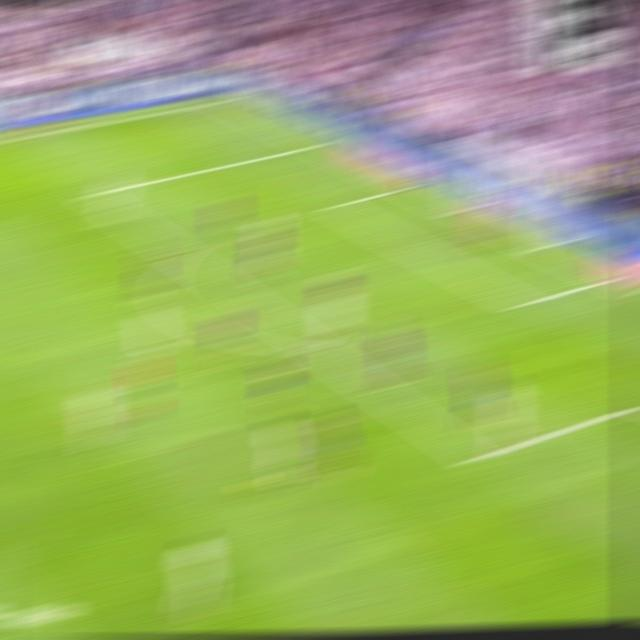bigarea_bottom_inner: (463, 448, 488, 469)
bigarea_top_inner: (81, 186, 104, 200)
bigarea_top_outter: (302, 136, 326, 151)
bottom_arc_area_intersection: (300, 335, 326, 356)
corner: (210, 96, 235, 105)
smallarea_bottom_outter: (594, 272, 619, 285)
smallarea_top_inner: (323, 198, 346, 213)
top_arc_area_intersection: (169, 246, 194, 264)
